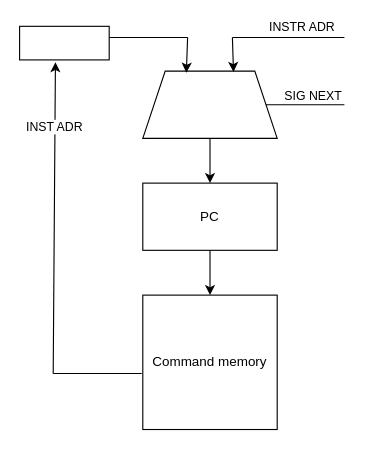
Image size: 365x449. Some labels were removed from this diagram. Here are the shapes that lost their labels. From the top down, the centre of each, then its label:
At point (63, 42): "INC".
At point (209, 104): "MUX".
